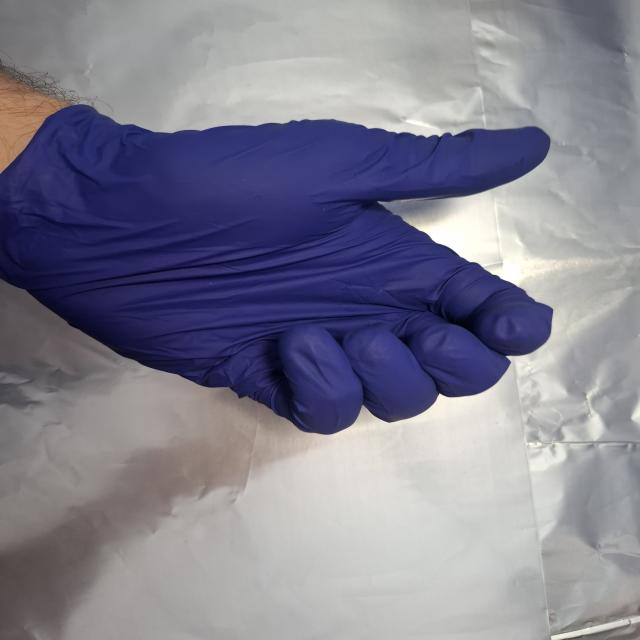glove_on: (0, 99, 555, 437)
